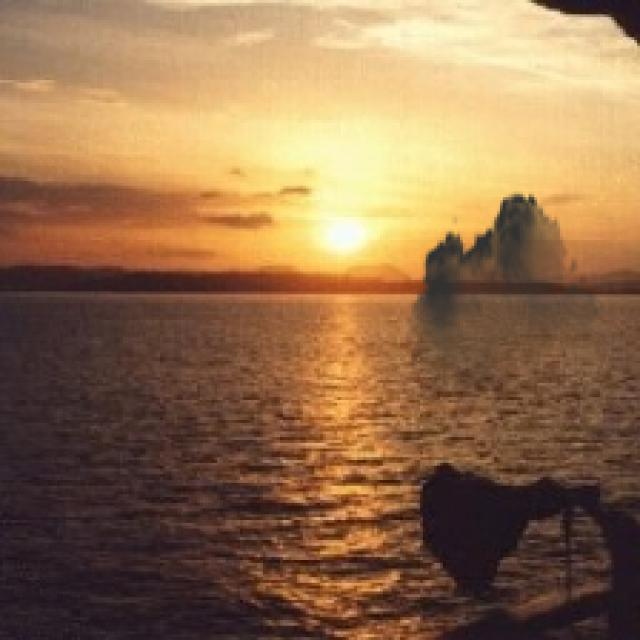Smoke: (406, 183, 606, 423)
